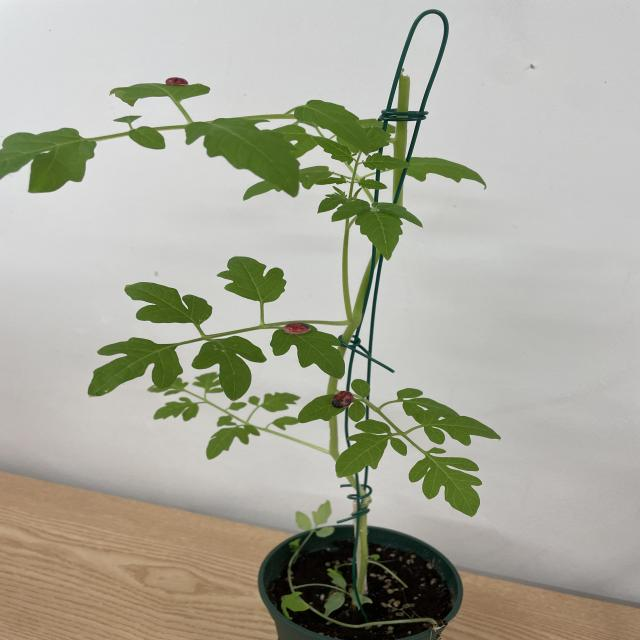bug: (142, 61, 208, 95), (264, 314, 326, 350), (323, 380, 358, 420)
